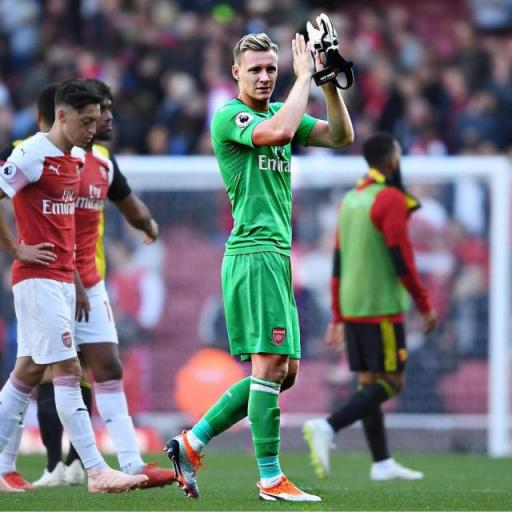Emirates: (40, 188, 80, 216)
